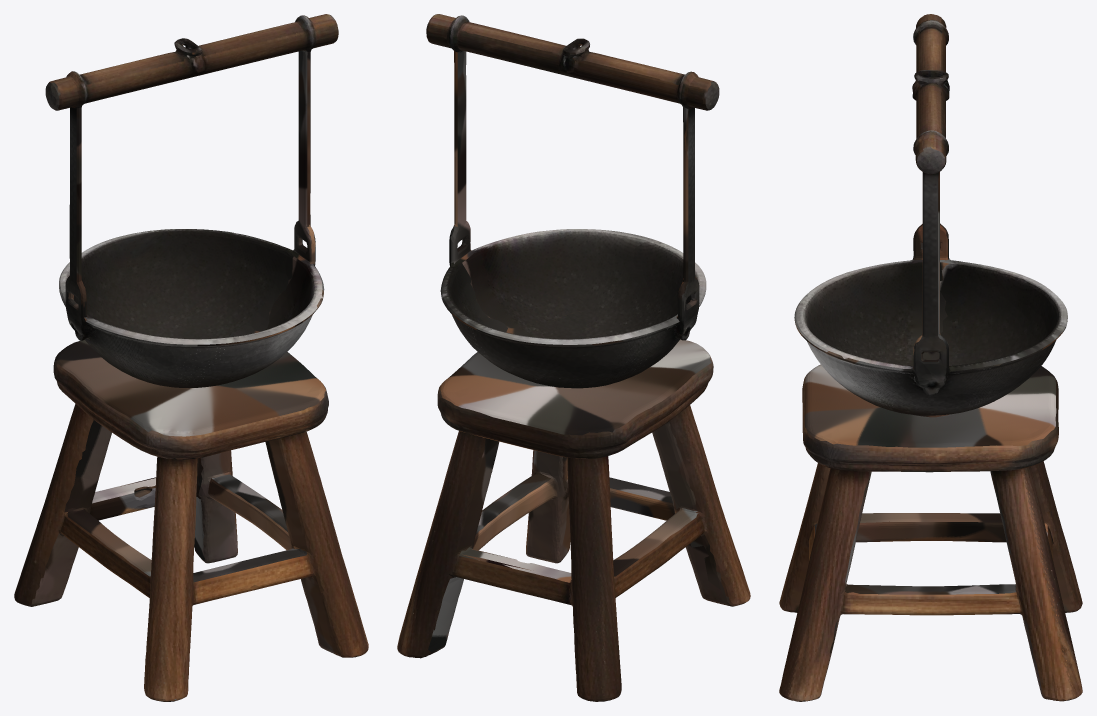
Rendered from traveler_env_coast_watchtower_signal_00001_.glb.
3 views of the same model, side by side, from view 1: azimuth 30°, elevation 25°; view 2: azimuth 150°, elevation 25°; view 3: azimuth 270°, elevation 25° (orthographic).
Visible parts, largest first — view 1: temp_mesh.ply; view 2: temp_mesh.ply; view 3: temp_mesh.ply.
Part boxes in pixels (x1=…): temp_mesh.ply: x1=14, y1=14, x2=368, y2=701; temp_mesh.ply: x1=397, y1=14, x2=750, y2=701; temp_mesh.ply: x1=779, y1=14, x2=1082, y2=701.
Size of the model in its own units: 1.01 by 1.97 by 0.9447.
Materials: 1 (1 with a texture image).
